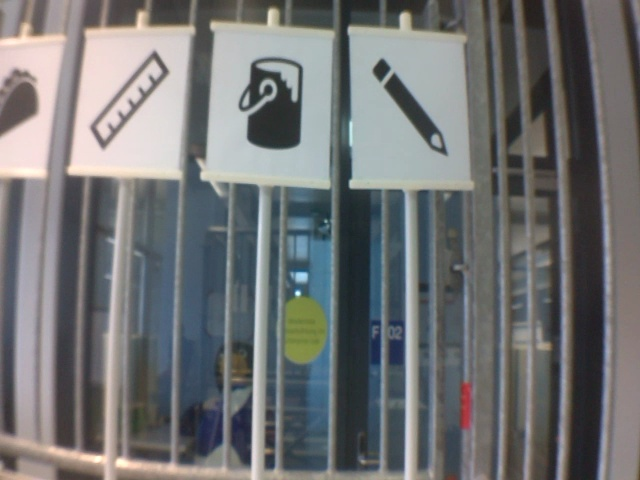bucket: (234, 53, 308, 159)
pencil: (368, 53, 452, 161)
ruler: (84, 47, 170, 155)
taco: (1, 61, 42, 152)
